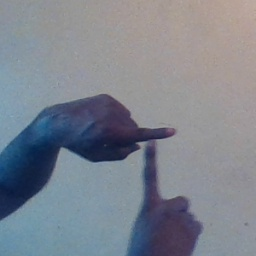T: (100, 99, 199, 217)
